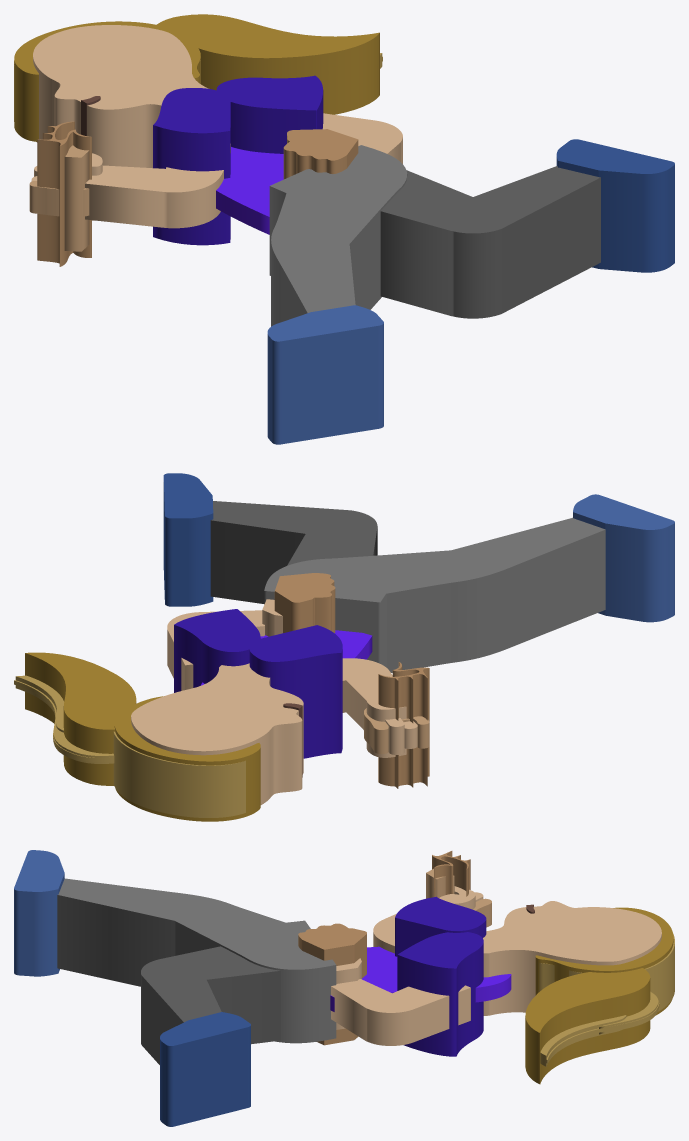
File: emoji_u1f3c3_1f3fc_200d_2640.glb
3 renders of one model, top to bottom at view 1: azimuth 30°, elevation 25°; view 2: azimuth 150°, elevation 25°; view 3: azimuth 270°, elevation 25°, orthographic. The views are drawn at different scales.
Parts seen in each view (by area): view 1: emoji_u1f3c3_1f3fc_200d_2640; view 2: emoji_u1f3c3_1f3fc_200d_2640; view 3: emoji_u1f3c3_1f3fc_200d_2640.
Part boxes in pixels (x1,y1,x2,y2): emoji_u1f3c3_1f3fc_200d_2640: (14, 14, 674, 444); emoji_u1f3c3_1f3fc_200d_2640: (14, 473, 674, 821); emoji_u1f3c3_1f3fc_200d_2640: (14, 850, 674, 1126).
Size of the model in its own units: 0.0227 by 0.0054 by 0.0326.
